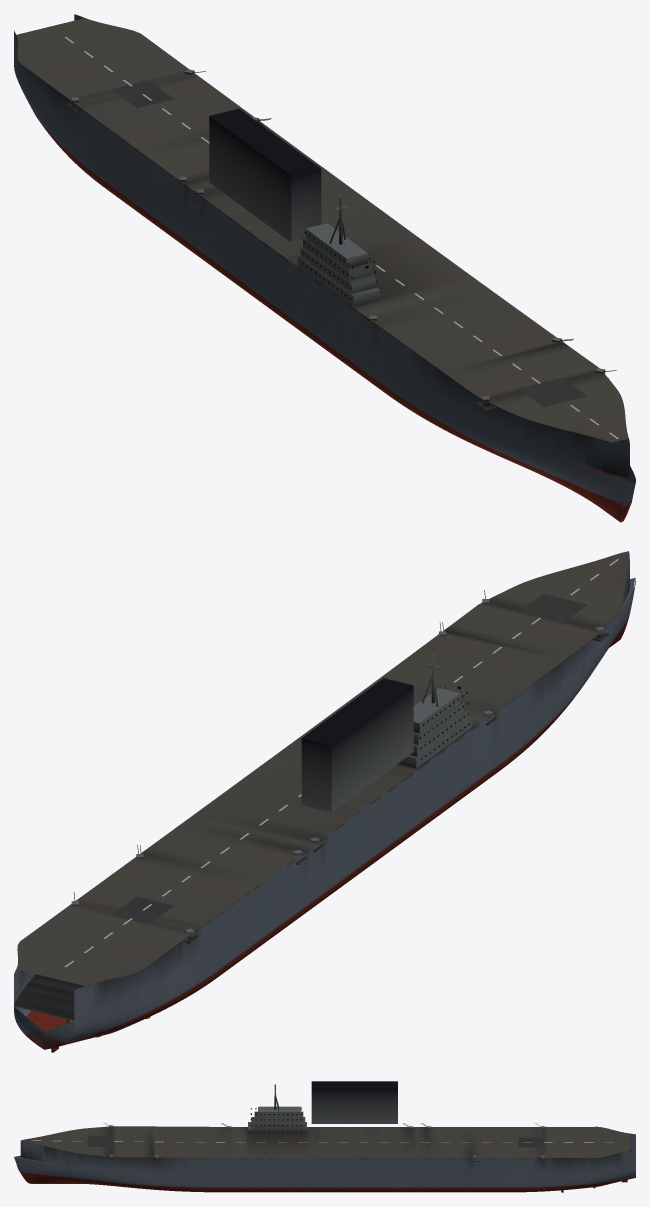
File: model_built.glb
3 renders of one model, top to bottom at view 1: azimuth 30°, elevation 25°; view 2: azimuth 150°, elevation 25°; view 3: azimuth 270°, elevation 25°, orthographic. The views are drawn at different scales.
Parts seen in each view (by area): view 1: main; view 2: main; view 3: main.
Part boxes in pixels (x1,y1,x2,y2): main: (14, 14, 635, 522); main: (14, 551, 635, 1052); main: (14, 1081, 635, 1192).
Bounding box in the file's own units: 35.9 × 42.63 × 274.
Materials: 1 (1 with a texture image).
